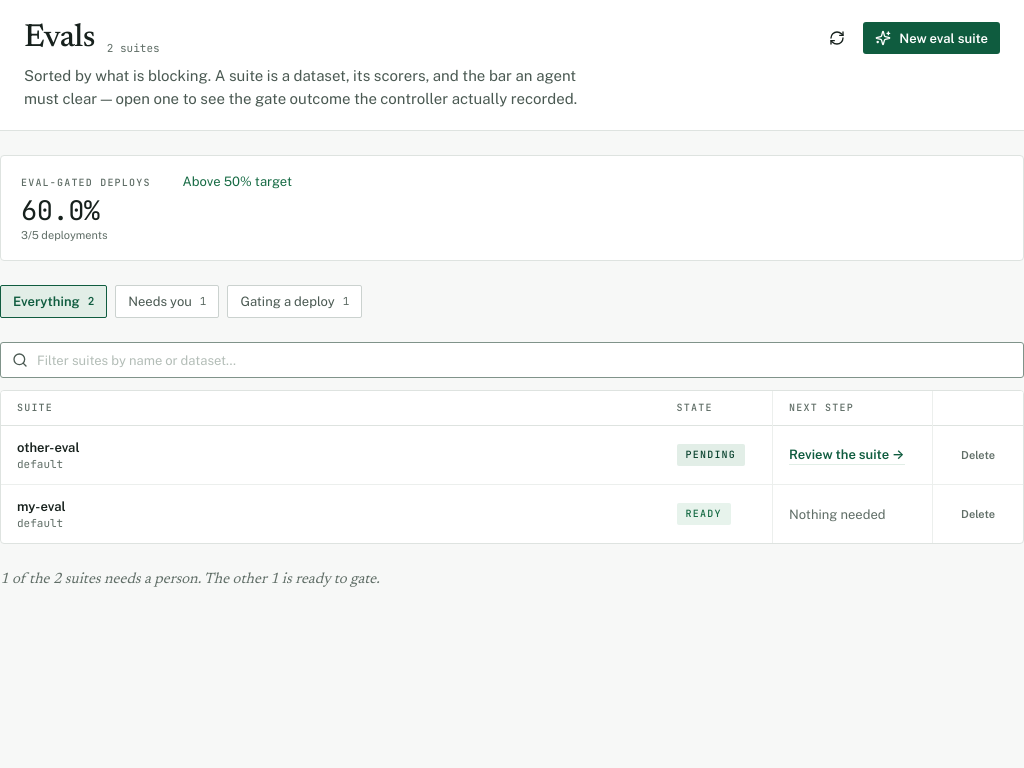
Test: EvalsPage › results panel: gate outcome from conditions, scores when scoresAvailable=true
The width and height of the screenshot is (1024, 768).
# Open the row — the results live in its drawer (§4.4 dropped ≠ lost).
Click the element with test id "eval-suite-my-eval": (41, 514) top-left (17, 499), bottom-right (66, 530)
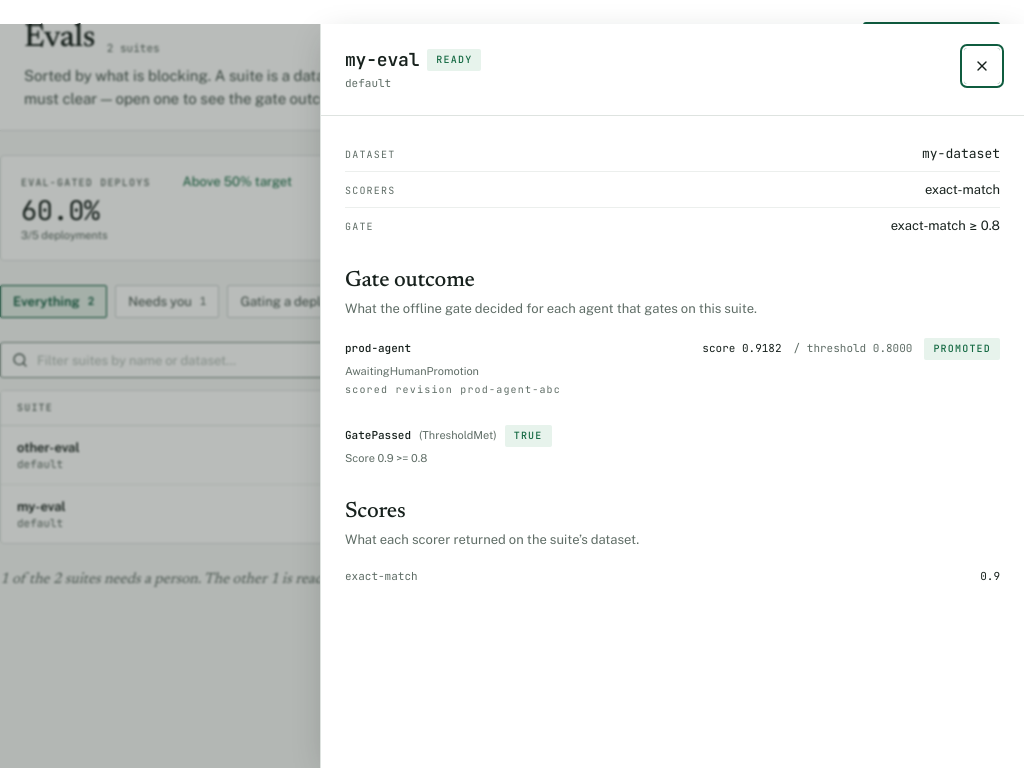
Result: the element with test id "eval-results-panel-my-eval" is shown at top-left (345, 267), bottom-right (1000, 592)
Result: the text "GatePassed" is shown at top-left (345, 428), bottom-right (411, 443)
Result: the text "(ThresholdMet)" is shown at top-left (419, 428), bottom-right (497, 443)
